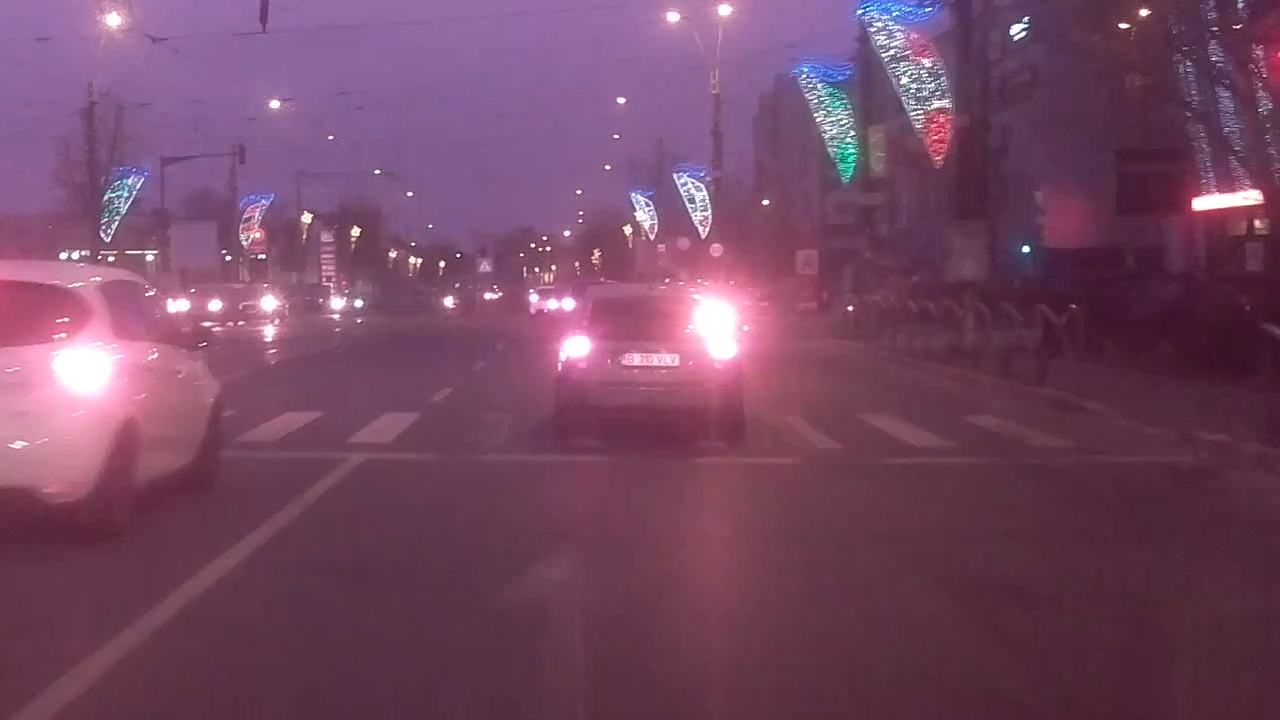license-plate: (617, 350, 683, 368)
